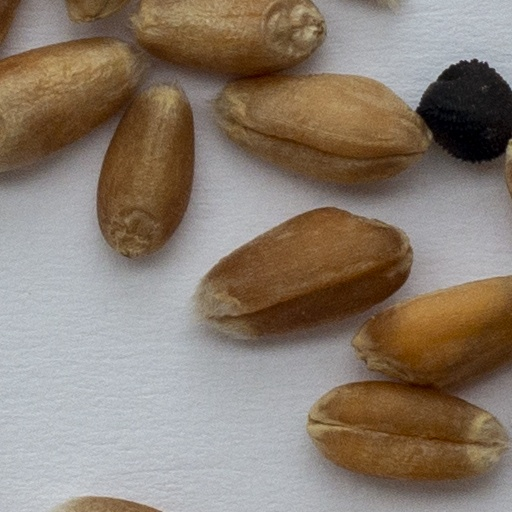Agrostemma-poly: (415, 57, 511, 171)
